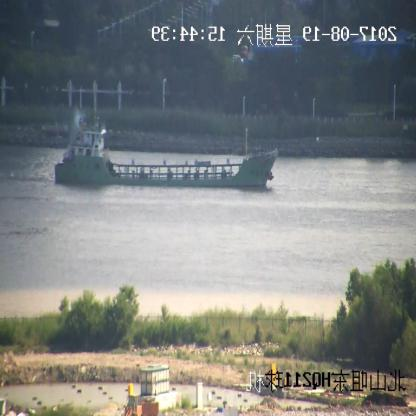Bulk Carrier: (55, 127, 278, 187)
